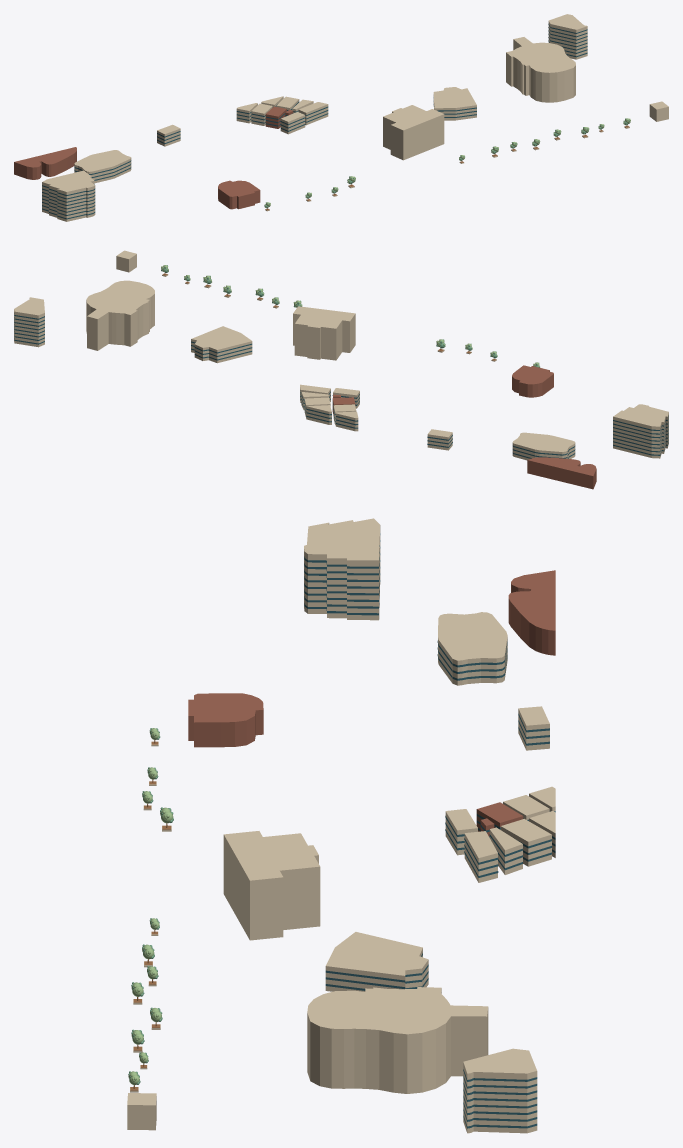
3 renders of one model, top to bottom at view 1: azimuth 30°, elevation 25°; view 2: azimuth 150°, elevation 25°; view 3: azimuth 270°, elevation 25°, orthographic. The views are drawn at different scales.
Parts seen in each view (by area): view 1: osm-way-307911305, osm-way-1322937148, osm-way-1318770895, osm-way-1318770896, osm-way-1267704258, osm-way-442978951, osm-way-499430059, osm-way-656626158, osm-way-1371845615, osm-way-1371845614, osm-way-1090253906, osm-way-1371845604 (+2 smaller); view 2: osm-way-307911305, osm-way-1322937148, osm-way-1318770895, osm-way-499430059, osm-way-1267704258, osm-way-442978951, osm-way-1318770896, osm-way-656626158, osm-way-1090253906, osm-way-1371845606, osm-way-1371845602, osm-way-1370139917; view 3: osm-way-307911305, osm-way-1322937148, osm-way-1318770895, osm-way-1318770896, osm-way-499430059, osm-way-442978951, osm-way-656626158, osm-way-1267704258, osm-way-1371845605, osm-way-1371845615, osm-way-1090253906, osm-way-1370139917 (+2 smaller).
Boxes of the visible parts, x1,y1,x2,y2 form: osm-way-307911305: [506, 37, 575, 102]; osm-way-1322937148: [383, 105, 444, 160]; osm-way-1318770895: [42, 170, 95, 221]; osm-way-1318770896: [548, 14, 587, 59]; osm-way-1267704258: [14, 147, 76, 179]; osm-way-442978951: [74, 150, 131, 183]; osm-way-499430059: [433, 87, 476, 120]; osm-way-656626158: [218, 180, 260, 209]; osm-way-1371845615: [298, 102, 328, 125]; osm-way-1371845614: [280, 111, 305, 134]; osm-way-1090253906: [157, 124, 180, 146]; osm-way-1371845604: [265, 106, 286, 128]; osm-way-307911305: [86, 280, 154, 350]; osm-way-1322937148: [293, 306, 355, 360]; osm-way-1318770895: [613, 404, 668, 458]; osm-way-499430059: [191, 326, 252, 363]; osm-way-1267704258: [527, 457, 596, 489]; osm-way-442978951: [512, 432, 575, 460]; osm-way-1318770896: [14, 297, 44, 347]; osm-way-656626158: [512, 365, 553, 397]; osm-way-1090253906: [427, 429, 452, 450]; osm-way-1371845606: [306, 405, 331, 424]; osm-way-1371845602: [335, 411, 358, 431]; osm-way-1370139917: [116, 250, 136, 272]; osm-way-307911305: [307, 987, 488, 1093]; osm-way-1322937148: [223, 831, 320, 940]; osm-way-1318770895: [304, 518, 380, 620]; osm-way-1318770896: [463, 1048, 537, 1133]; osm-way-499430059: [325, 932, 428, 991]; osm-way-442978951: [437, 612, 507, 685]; osm-way-656626158: [188, 693, 263, 747]; osm-way-1267704258: [508, 570, 555, 655]; osm-way-1371845605: [501, 819, 551, 866]; osm-way-1371845615: [464, 831, 498, 882]; osm-way-1090253906: [518, 706, 549, 750]; osm-way-1370139917: [127, 1093, 156, 1130].
Size of the model in its own units: 717 by 36 by 234.
